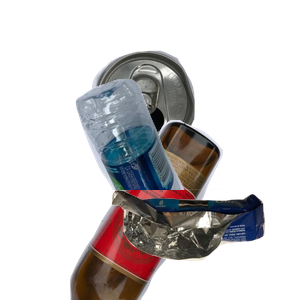glass: (67, 120, 282, 300)
metal: (89, 48, 276, 192)
plastic: (73, 76, 300, 256)
trash: (109, 187, 300, 300)
